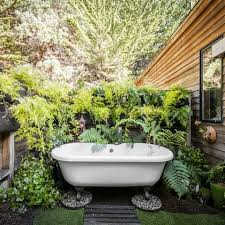bathub: (50, 140, 178, 215)
